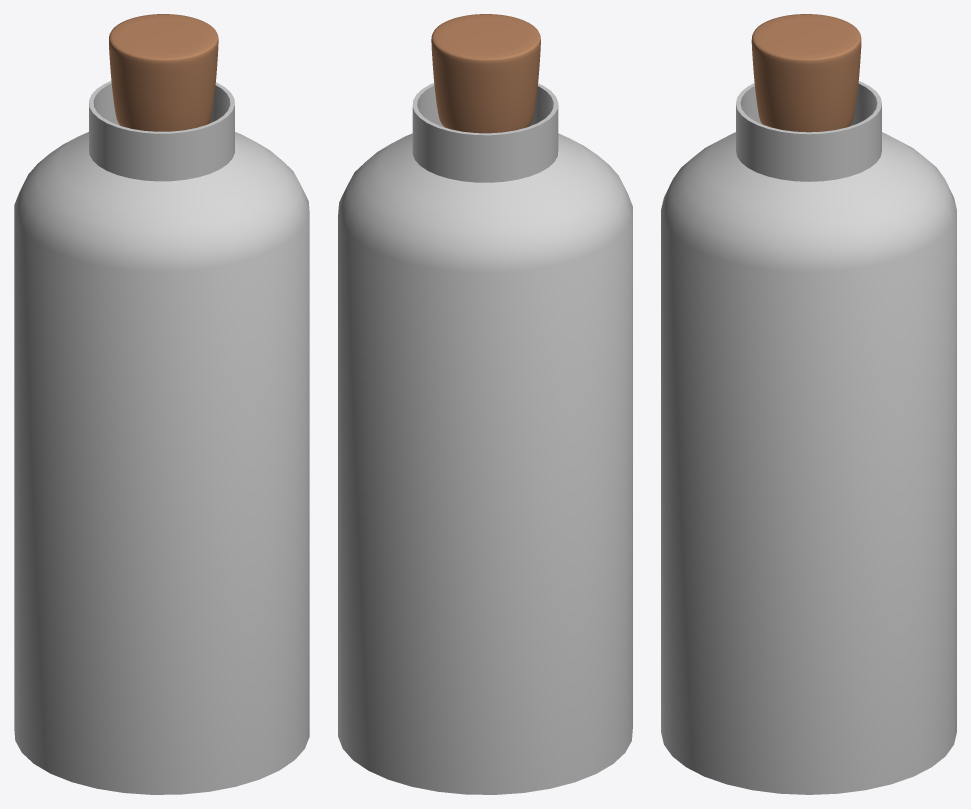
The model's file is Garrafa.fbx.
3 views of the same model, side by side, from view 1: azimuth 30°, elevation 25°; view 2: azimuth 150°, elevation 25°; view 3: azimuth 270°, elevation 25° (orthographic).
Visible parts, largest first — view 1: Cylinder, Cylinder.002; view 2: Cylinder, Cylinder.002; view 3: Cylinder, Cylinder.002.
Boxes of the visible parts, left/top/right/bottom form: Cylinder: left=14, top=81, right=309, bottom=794; Cylinder.002: left=109, top=14, right=218, bottom=131; Cylinder: left=338, top=83, right=632, bottom=794; Cylinder.002: left=431, top=14, right=540, bottom=133; Cylinder: left=661, top=81, right=956, bottom=794; Cylinder.002: left=751, top=14, right=861, bottom=132.
Size of the model in its own units: 832 by 2165 by 832.
